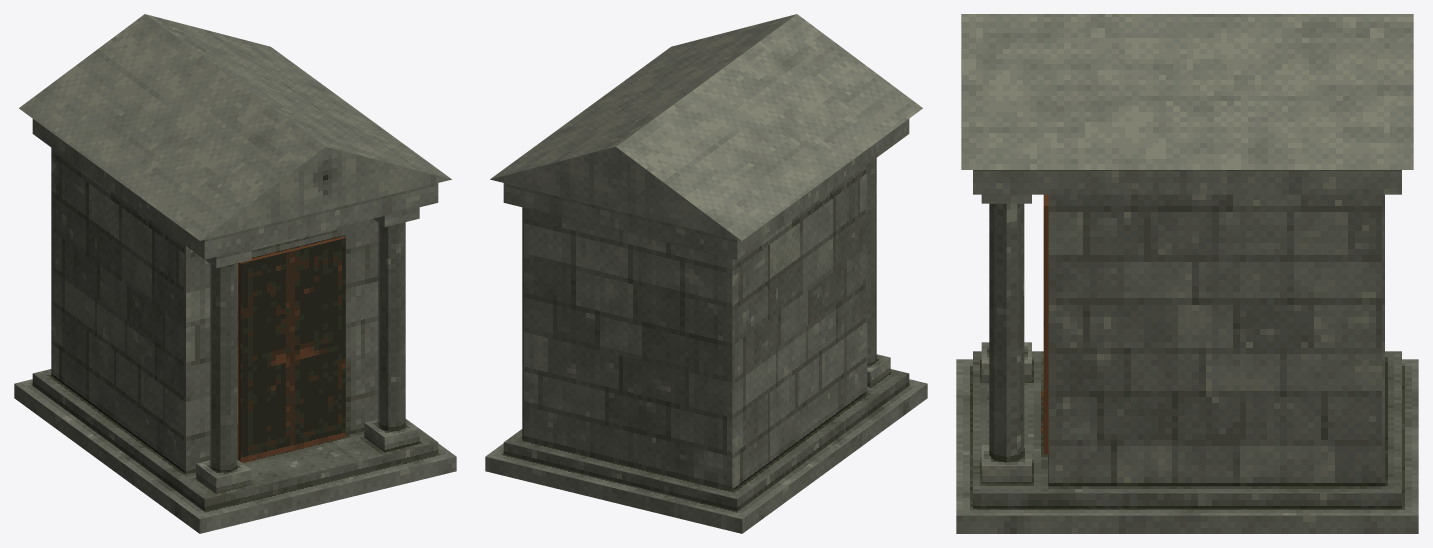
Rendered from Crypt_01.glb.
3 views of the same model, side by side, from view 1: azimuth 30°, elevation 25°; view 2: azimuth 150°, elevation 25°; view 3: azimuth 270°, elevation 25° (orthographic). The views are drawn at different scales.
Visible parts, largest first — view 1: Crypt_01; view 2: Crypt_01; view 3: Crypt_01.
Boxes of the visible parts, left/top/right/bottom form: Crypt_01: left=14, top=14, right=456, bottom=533; Crypt_01: left=485, top=14, right=927, bottom=533; Crypt_01: left=956, top=14, right=1418, bottom=533.
Bounding box in the file's own units: 2.2 × 2.9 × 2.75.
1 material, 1 textured.
